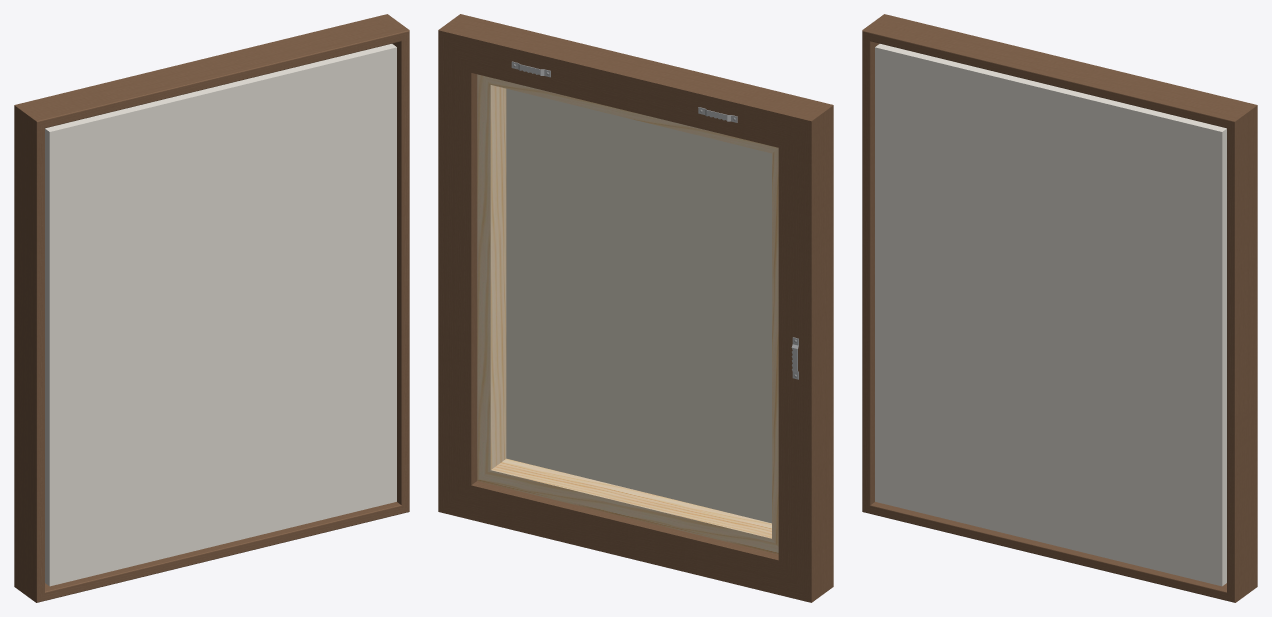
The model's file is delivery.glb.
3 renders of one model, left to right at view 1: azimuth 30°, elevation 25°; view 2: azimuth 150°, elevation 25°; view 3: azimuth 330°, elevation 25°, orthographic.
Parts seen in each view (by area): view 1: Canvas artwork front, Tray approved profile 0; view 2: Canvas linen reverse, Tray approved profile 0, Stretcher top, Sawtooth hanger 0; view 3: Canvas artwork front, Tray approved profile 0.
Part boxes in pixels (<box>): Canvas artwork front: <box>45,44,396,586</box>; Tray approved profile 0: <box>14,14,409,602</box>; Canvas linen reverse: <box>506,88,771,523</box>; Tray approved profile 0: <box>438,14,833,602</box>; Stretcher top: <box>477,74,778,554</box>; Sawtooth hanger 0: <box>511,61,798,379</box>; Canvas artwork front: <box>875,44,1226,586</box>; Tray approved profile 0: <box>862,14,1257,602</box>.
Size of the model in its own units: 0.43 by 0.53 by 0.0474.
Materials: 7 (3 with a texture image).
